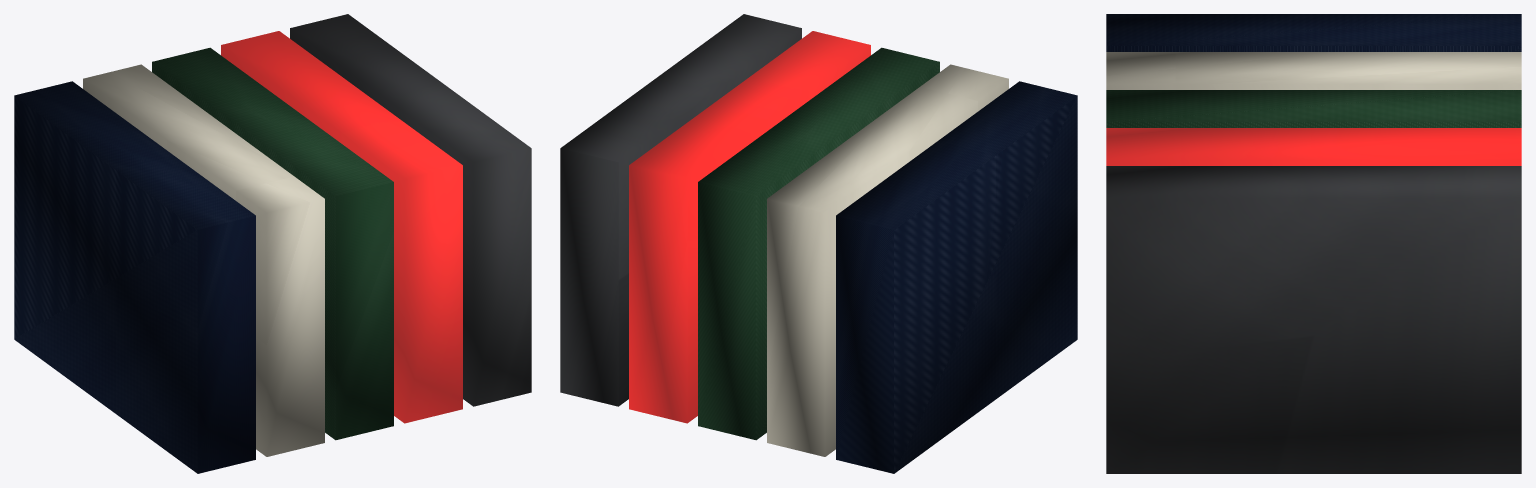
Rendered from BINDER_SET_001.glb.
The picture shows the model from 3 angles, left to right: view 1: azimuth 30°, elevation 25°; view 2: azimuth 150°, elevation 25°; view 3: azimuth 270°, elevation 25°; orthographic projection. The views are drawn at different scales.
Parts seen in each view (by area): view 1: binder_000, binder_002, binder_004, binder_001, binder_003; view 2: binder_000, binder_002, binder_004, binder_001, binder_003; view 3: binder_004, binder_000, binder_001, binder_002, binder_003.
Boxes of the visible parts, box(x1,y1,x2,y2) form: binder_000: box(14, 81, 255, 473); binder_002: box(152, 47, 393, 440); binder_004: box(290, 14, 531, 406); binder_001: box(83, 64, 324, 456); binder_003: box(221, 31, 462, 423); binder_000: box(836, 81, 1077, 473); binder_002: box(698, 47, 939, 440); binder_004: box(560, 14, 801, 406); binder_001: box(767, 64, 1008, 456); binder_003: box(629, 31, 870, 423); binder_004: box(1106, 166, 1521, 473); binder_000: box(1106, 14, 1521, 51); binder_001: box(1106, 52, 1521, 89); binder_002: box(1106, 90, 1521, 127); binder_003: box(1106, 128, 1521, 165).
Size of the model in its own units: 0.315 by 0.22 by 0.3.
Materials: 5 (5 with a texture image).
